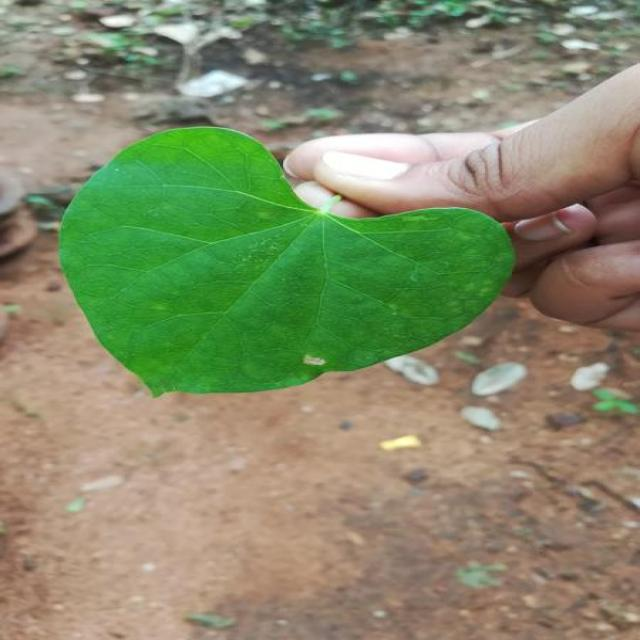Amruthaballi: (60, 128, 513, 394)
